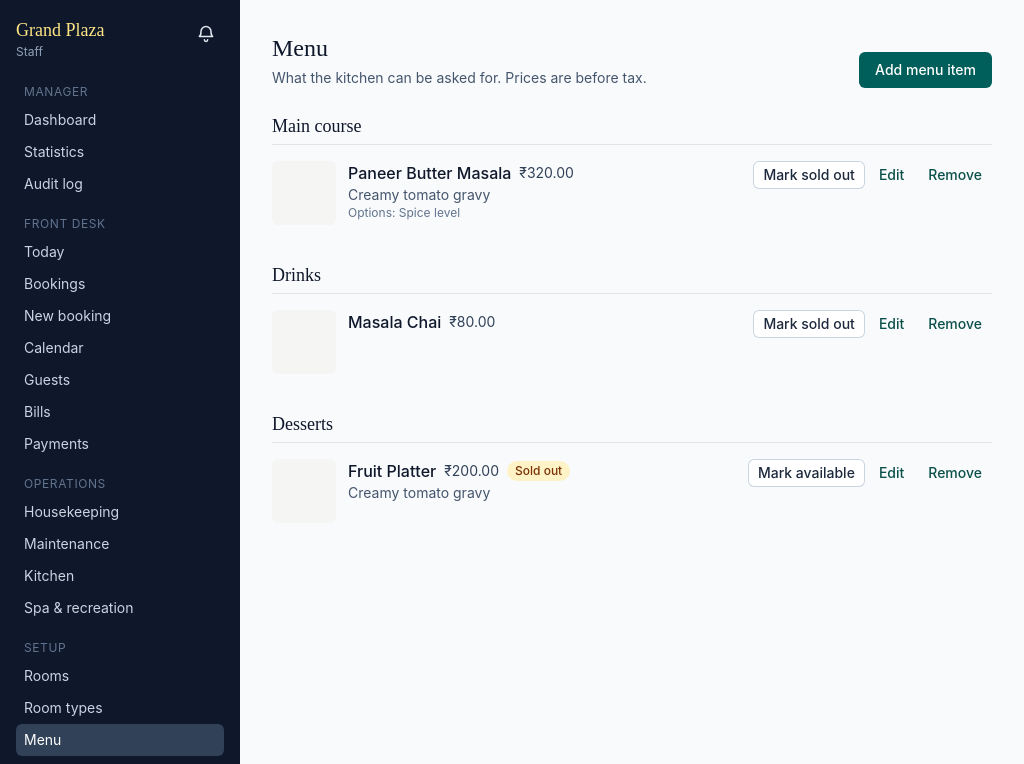
Test: adding an item › sends the price in paise and the trimmed text
Step 1. Click the button "Add menu item" → (926, 70), box [859,52,992,88]
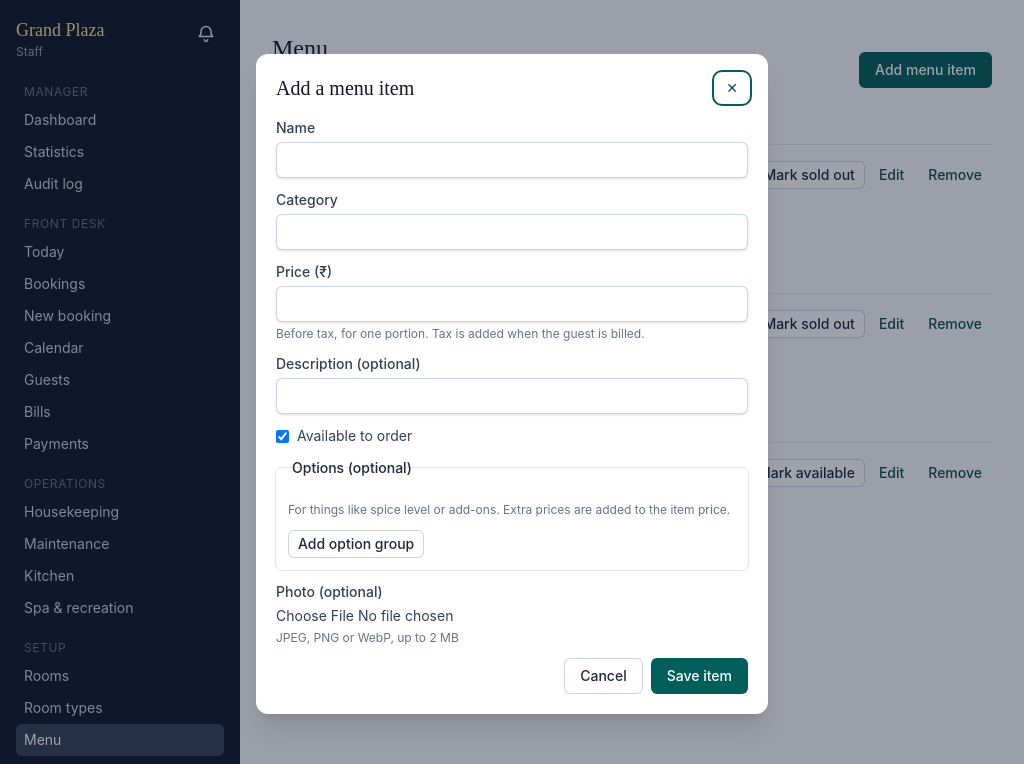
Step 2. Type "  Paneer Tikka " into the field labelled "Name" → (512, 160), box [276,142,748,178]
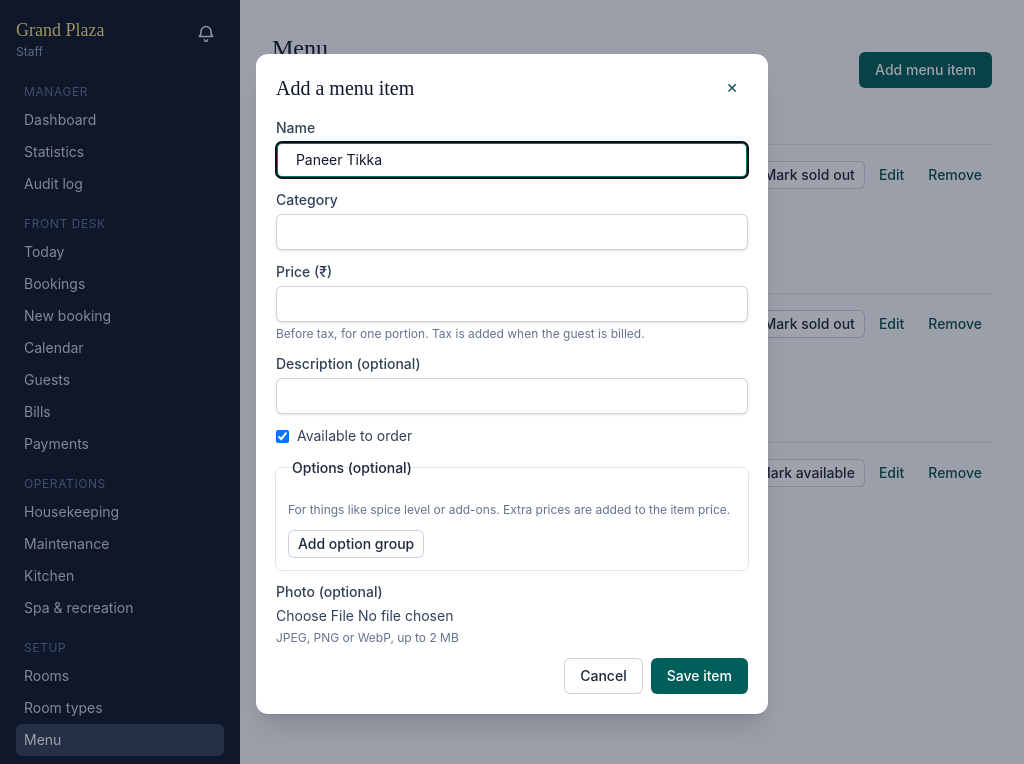
Step 3. Type "Starters" into the field labelled "Category" → (512, 232), box [276,214,748,250]
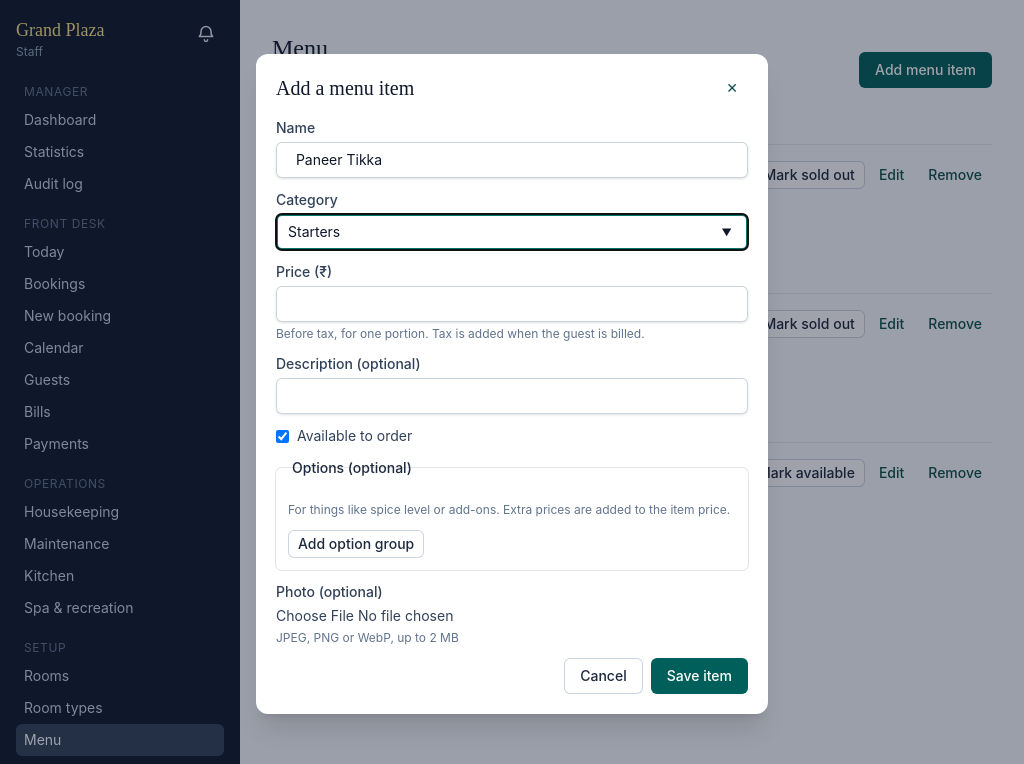
Step 4. Type "320.50" into the field labelled "Price (₹)" → (512, 304), box [276,286,748,322]
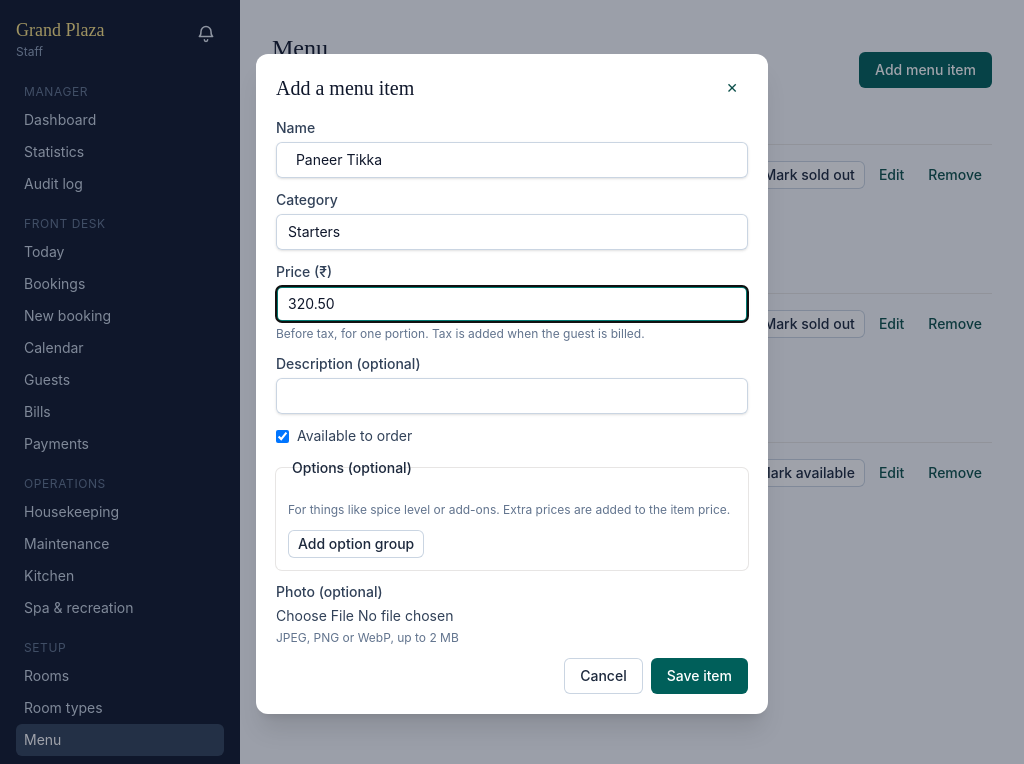
Step 5. Click the button "Save item" → (699, 676), box [651,658,748,694]
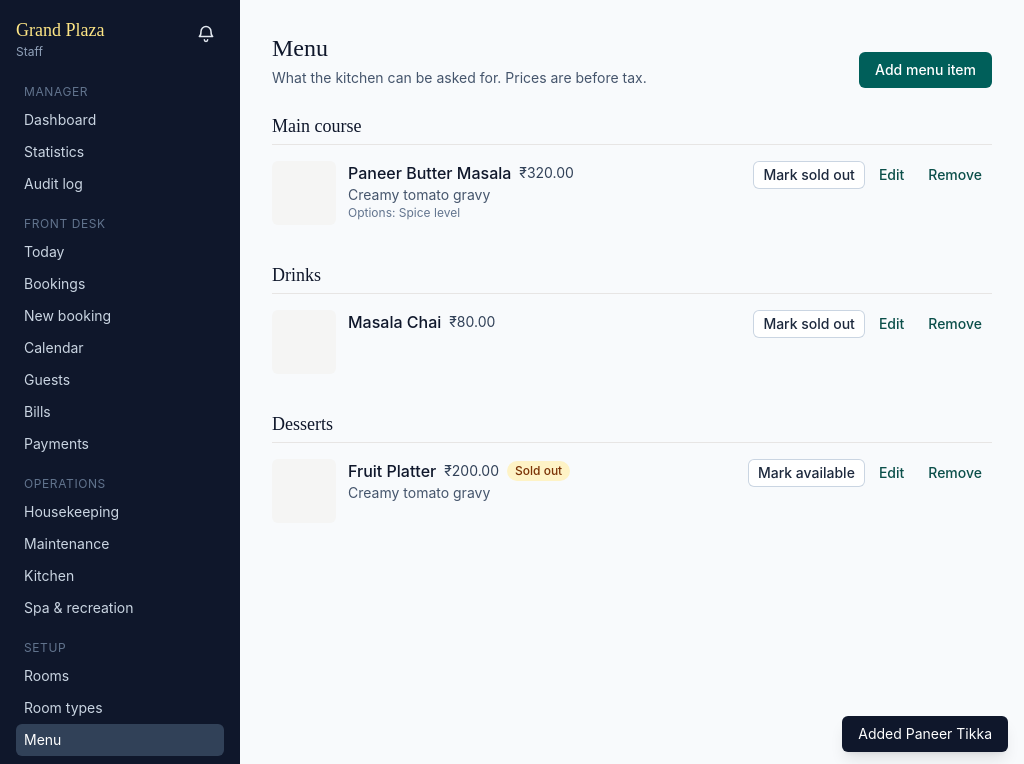
Expected: the text "Added Paneer Tikka" is shown, [842,716,1008,752]
